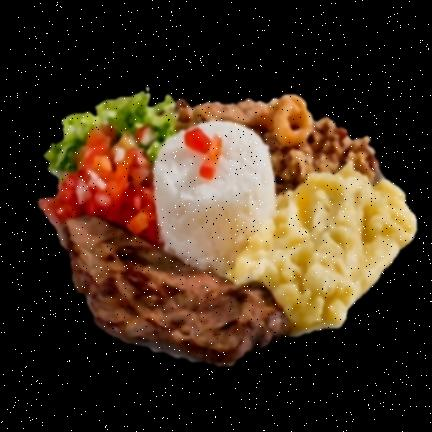beans: (175, 100, 378, 194)
meat: (59, 217, 289, 365)
potato: (227, 163, 416, 335)
rice: (154, 122, 275, 274)
salad: (45, 92, 176, 180)
tomato: (39, 125, 158, 245)
